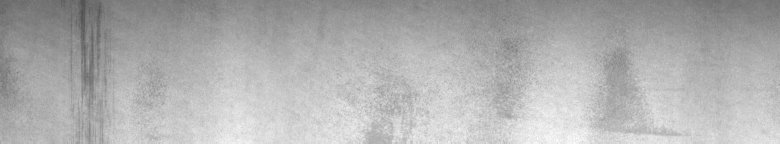ka: (76, 4, 107, 104)
